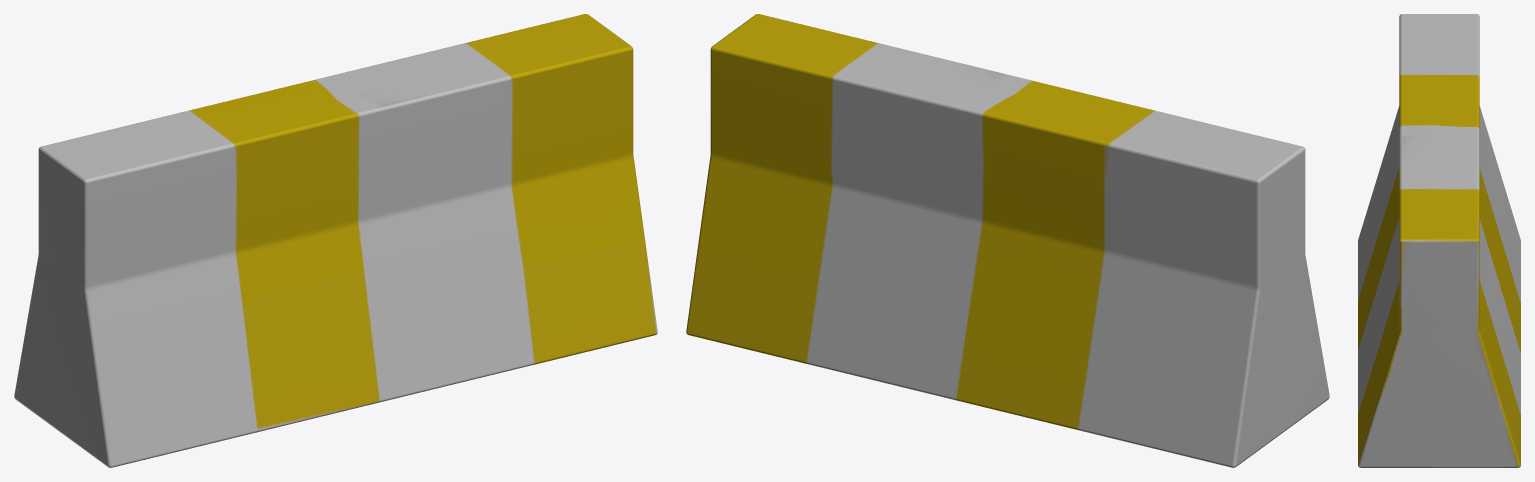
The model's file is org_kerb_stone.glb.
3 views of the same model, side by side, from view 1: azimuth 30°, elevation 25°; view 2: azimuth 150°, elevation 25°; view 3: azimuth 270°, elevation 25° (orthographic). The views are drawn at different scales.
Parts seen in each view (by area): view 1: Object_2; view 2: Object_2; view 3: Object_2.
Boxes of the visible parts, left/top/right/bottom form: Object_2: left=14, top=14, right=657, bottom=467; Object_2: left=686, top=14, right=1329, bottom=467; Object_2: left=1358, top=14, right=1520, bottom=467.
Size of the model in its own units: 2.19 by 1.03 by 0.6649.
Materials: 1 (1 with a texture image).
